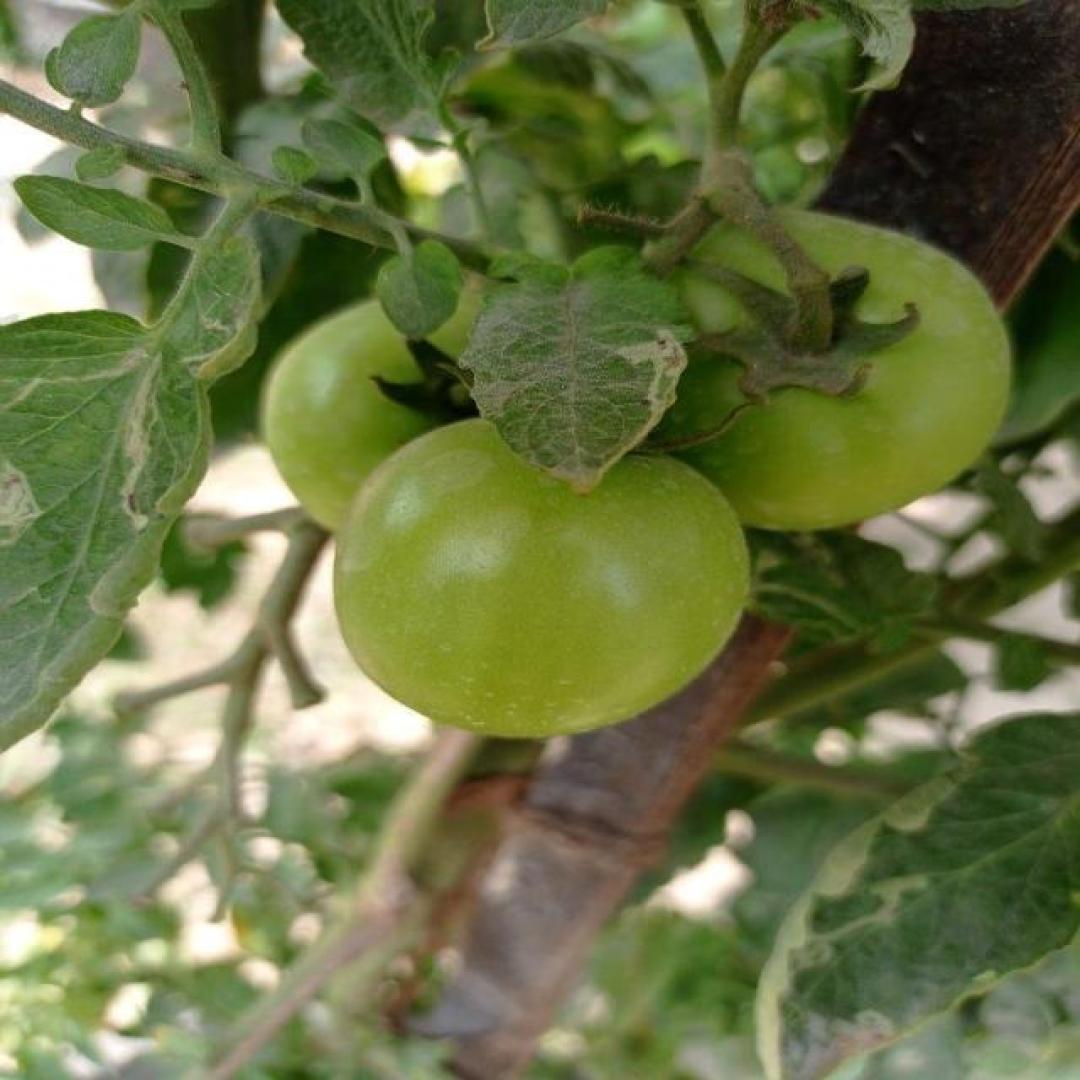mentah: (577, 201, 1013, 538), (331, 413, 749, 746)
